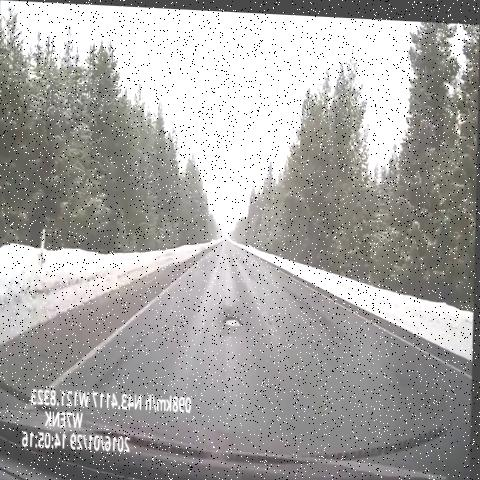pothole: (254, 296, 282, 339), (219, 301, 249, 337)
